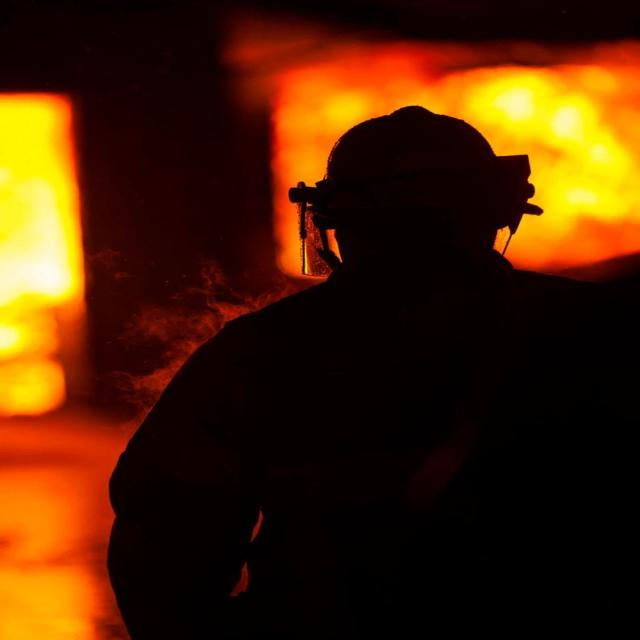Fire: (0, 78, 117, 426), (464, 59, 640, 226)
